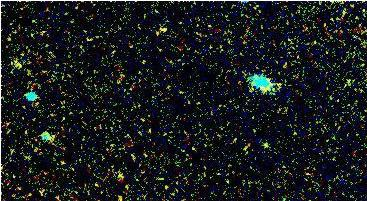star: (252, 129, 282, 159)
